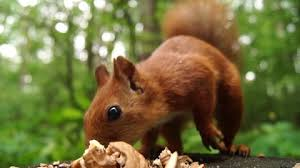squirrel: (84, 27, 251, 150)
